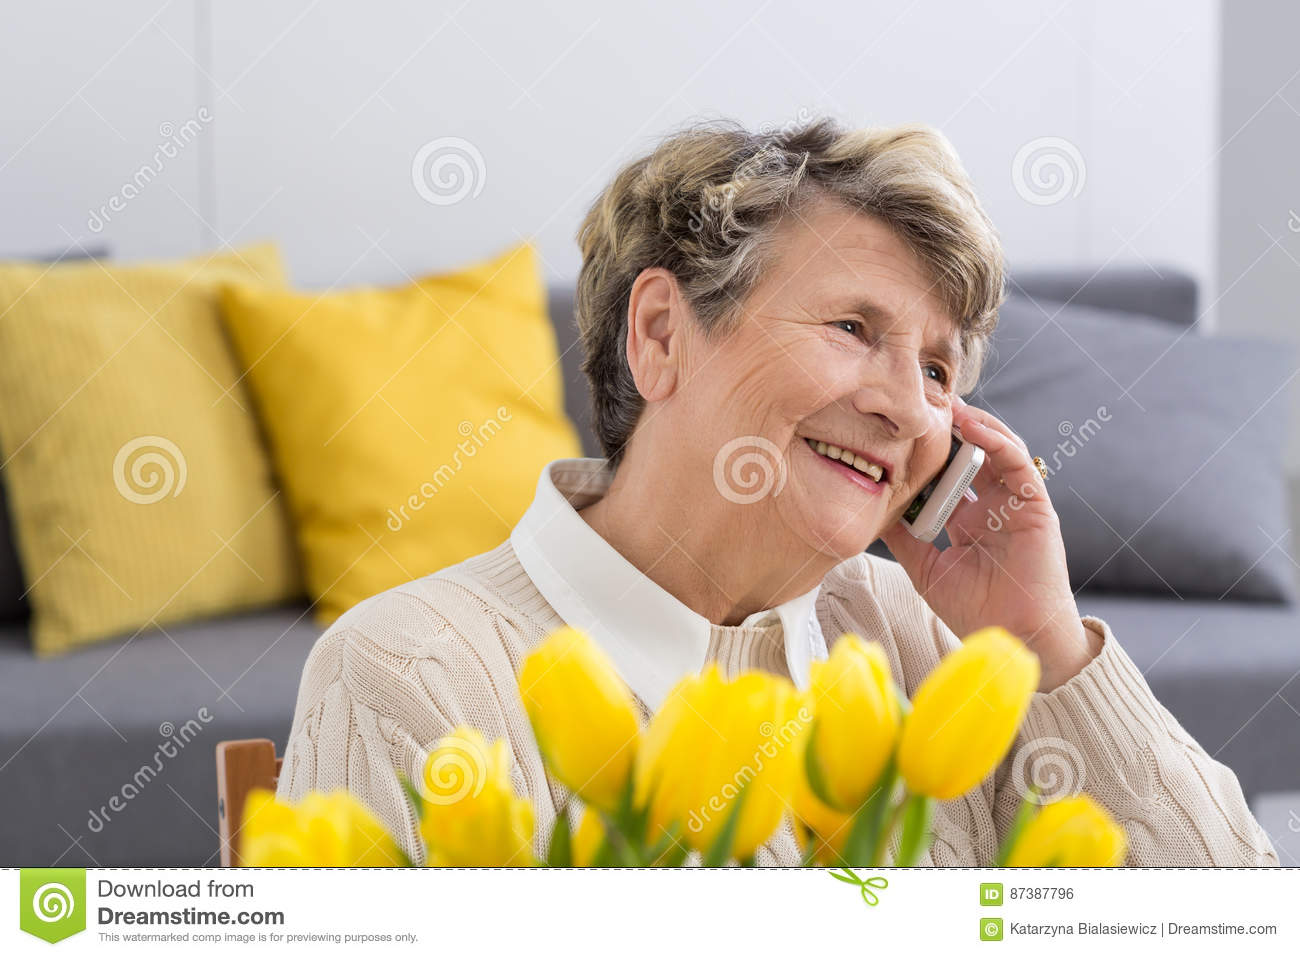phone: (905, 377, 1020, 554)
talk: (727, 275, 1070, 678)
